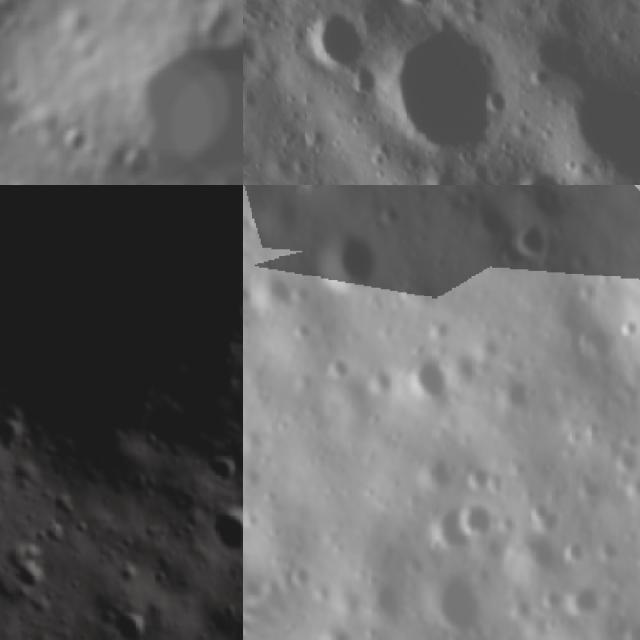crater: (0, 185, 243, 496), (365, 5, 542, 185), (301, 216, 402, 318), (288, 0, 394, 95), (386, 342, 472, 428), (413, 565, 504, 640), (349, 564, 429, 640), (445, 486, 512, 553), (414, 507, 480, 572), (499, 213, 564, 278), (243, 263, 306, 330), (458, 195, 519, 256), (493, 152, 602, 185), (555, 572, 614, 630), (0, 541, 57, 601), (199, 495, 243, 566), (307, 344, 361, 398), (553, 520, 607, 574), (521, 492, 574, 545), (567, 469, 619, 522), (110, 138, 163, 185), (52, 116, 102, 163), (104, 602, 161, 640), (448, 617, 539, 640), (468, 185, 559, 208), (376, 0, 459, 25), (602, 441, 640, 489), (592, 531, 634, 574), (201, 448, 242, 492), (312, 610, 370, 640), (0, 408, 30, 457), (108, 553, 144, 593), (612, 309, 640, 347), (608, 607, 640, 640), (72, 514, 93, 538), (0, 497, 10, 538)
